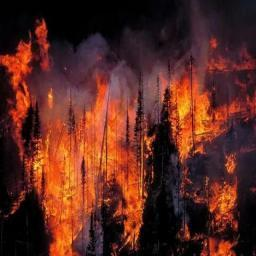Large fire: (0, 18, 256, 256)
Low smoke: (24, 22, 256, 198)
